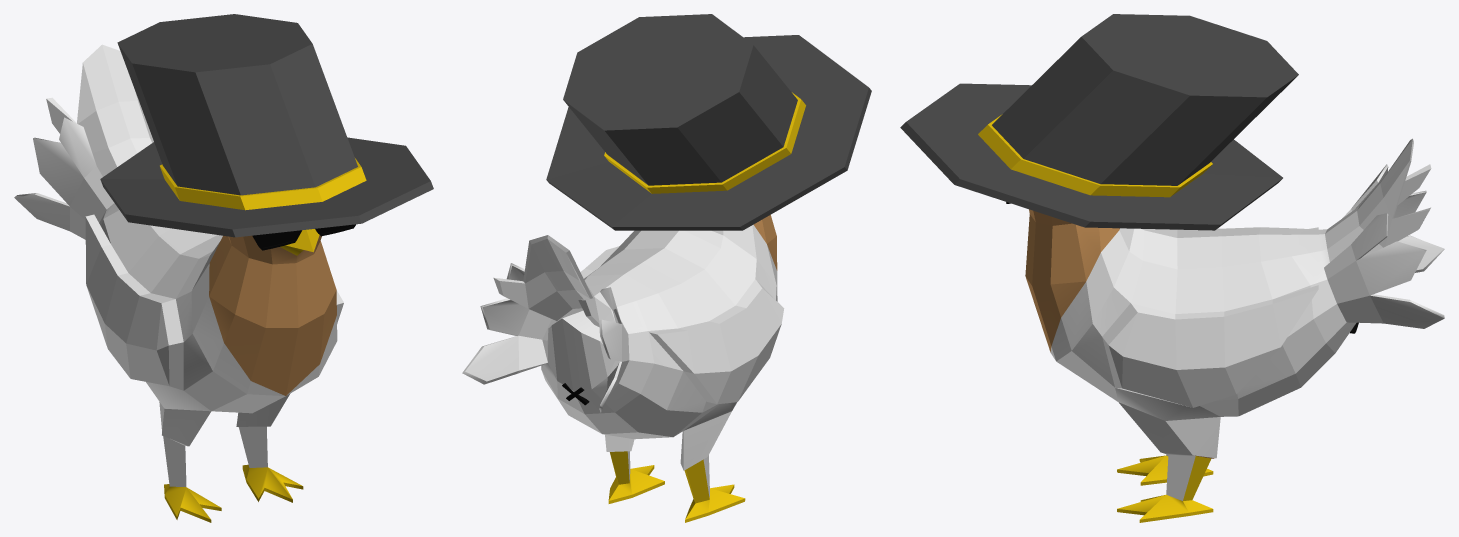
Rendered from Checken.fbx.
3 views of the same model, side by side, from view 1: azimuth 30°, elevation 25°; view 2: azimuth 150°, elevation 25°; view 3: azimuth 270°, elevation 25° (orthographic). The views are drawn at different scales.
Visible parts, largest first — view 1: MainBody, Hat, Rside; view 2: MainBody, Hat; view 3: MainBody, Hat.
Part boxes in pixels (<box>): MainBody: <box>14,44,343,522</box>; Hat: <box>100,14,433,237</box>; Rside: <box>252,230,301,250</box>; MainBody: <box>462,215,784,522</box>; Hat: <box>546,14,871,230</box>; MainBody: <box>1025,138,1444,522</box>; Hat: <box>900,14,1298,230</box>.
Size of the model in its own units: 3.39 by 5.35 by 5.77.
